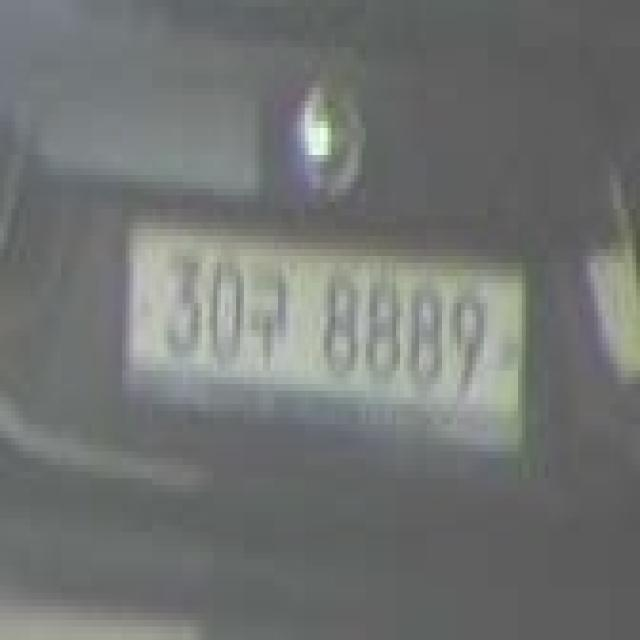0: (209, 263, 244, 364)
3: (168, 249, 202, 357)
8: (408, 283, 446, 397), (366, 276, 404, 384), (324, 270, 358, 378)
9: (453, 290, 488, 398)
gu: (252, 262, 290, 370)
license_plate: (126, 209, 522, 451)
